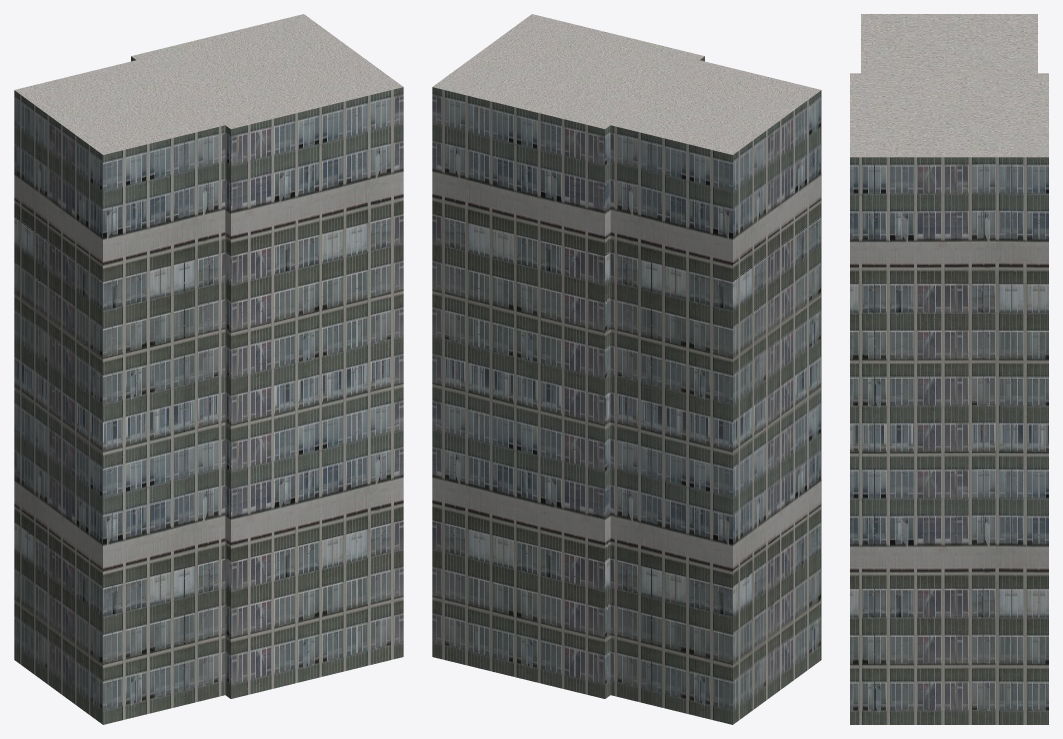
The model's file is building_008_001.glb.
3 views of the same model, side by side, from view 1: azimuth 30°, elevation 25°; view 2: azimuth 150°, elevation 25°; view 3: azimuth 270°, elevation 25° (orthographic).
Visible parts, largest first — view 1: building_008.001; view 2: building_008.001; view 3: building_008.001.
Boxes of the visible parts, x1,y1,x2,y2 form: building_008.001: [14, 14, 403, 724]; building_008.001: [432, 14, 821, 724]; building_008.001: [850, 14, 1048, 724].
Bounding box in the file's own units: 1707 × 3150 × 1000.
2 materials, 2 textured.
